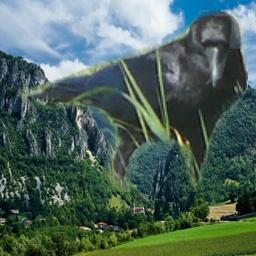Crow: (18, 10, 248, 192)
